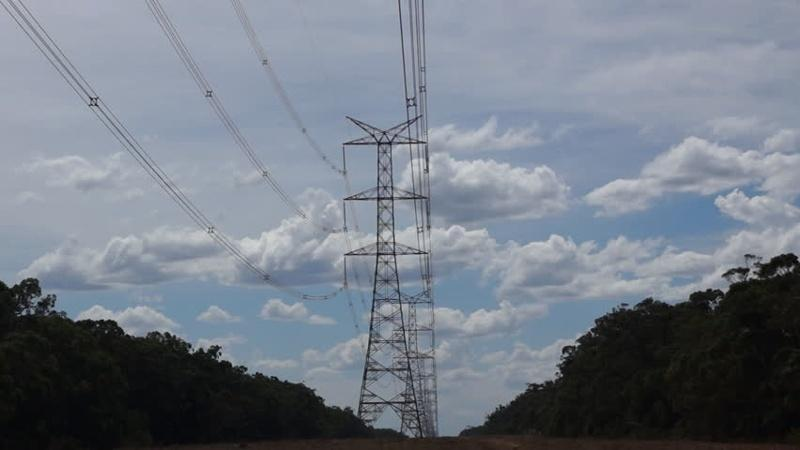power_tower: (340, 115, 434, 440), (383, 282, 435, 442)
